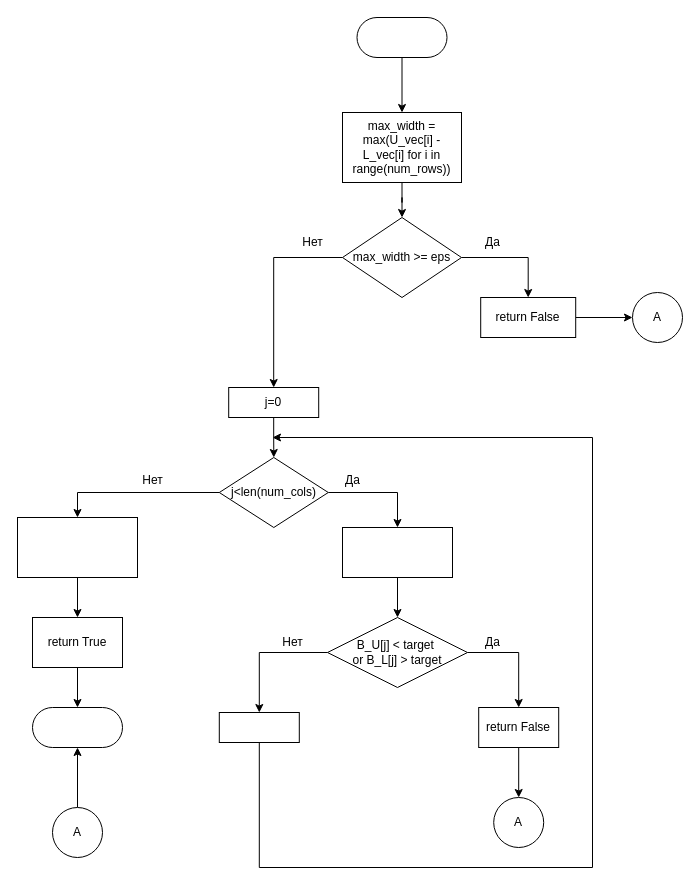
This 700x893 diagram has some shape labels left out. Each missing label, with the box of its shape:
begin: (356, 16, 447, 58)
end: (32, 706, 122, 748)
j++: (218, 712, 299, 742)
solutions.append ((L_vec, U_vec)): (16, 516, 138, 578)
target = output_values[j]: (342, 526, 452, 578)
